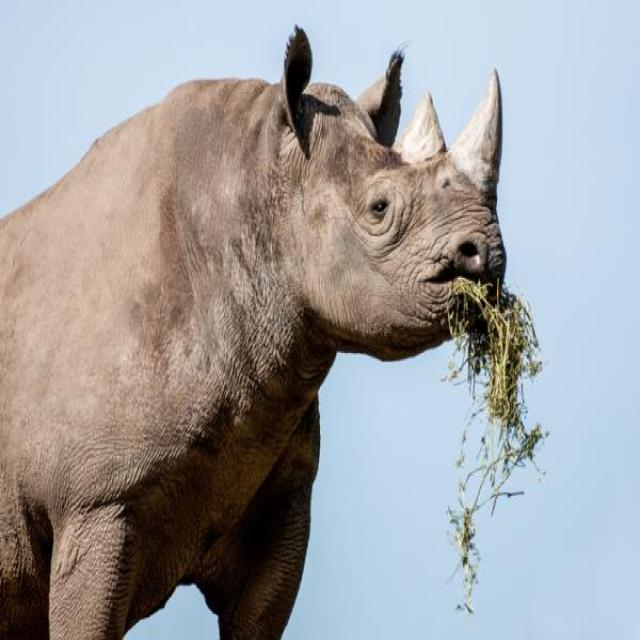Herbivorous: (0, 28, 526, 640)
